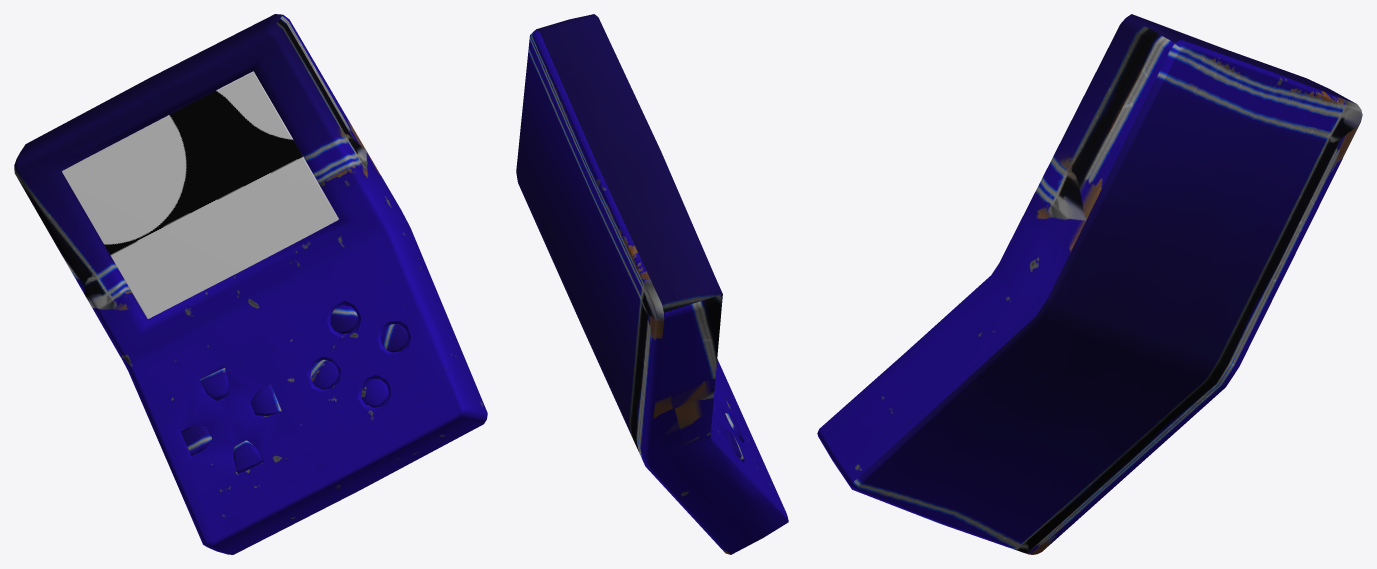
Rendered from RetroToy.fbx.
3 renders of one model, left to right at view 1: azimuth 30°, elevation 25°; view 2: azimuth 150°, elevation 25°; view 3: azimuth 270°, elevation 25°, orthographic. The views are drawn at different scales.
Parts seen in each view (by area): view 1: Object_3, Object_2; view 2: Object_3; view 3: Object_3.
Part boxes in pixels (x1=…): Object_3: x1=14, y1=14, x2=487, y2=554; Object_2: x1=62, y1=71, x2=338, y2=318; Object_3: x1=516, y1=14, x2=788, y2=554; Object_3: x1=817, y1=14, x2=1362, y2=554.
Bounding box in the file's own units: 4394 × 6930 × 5854.
